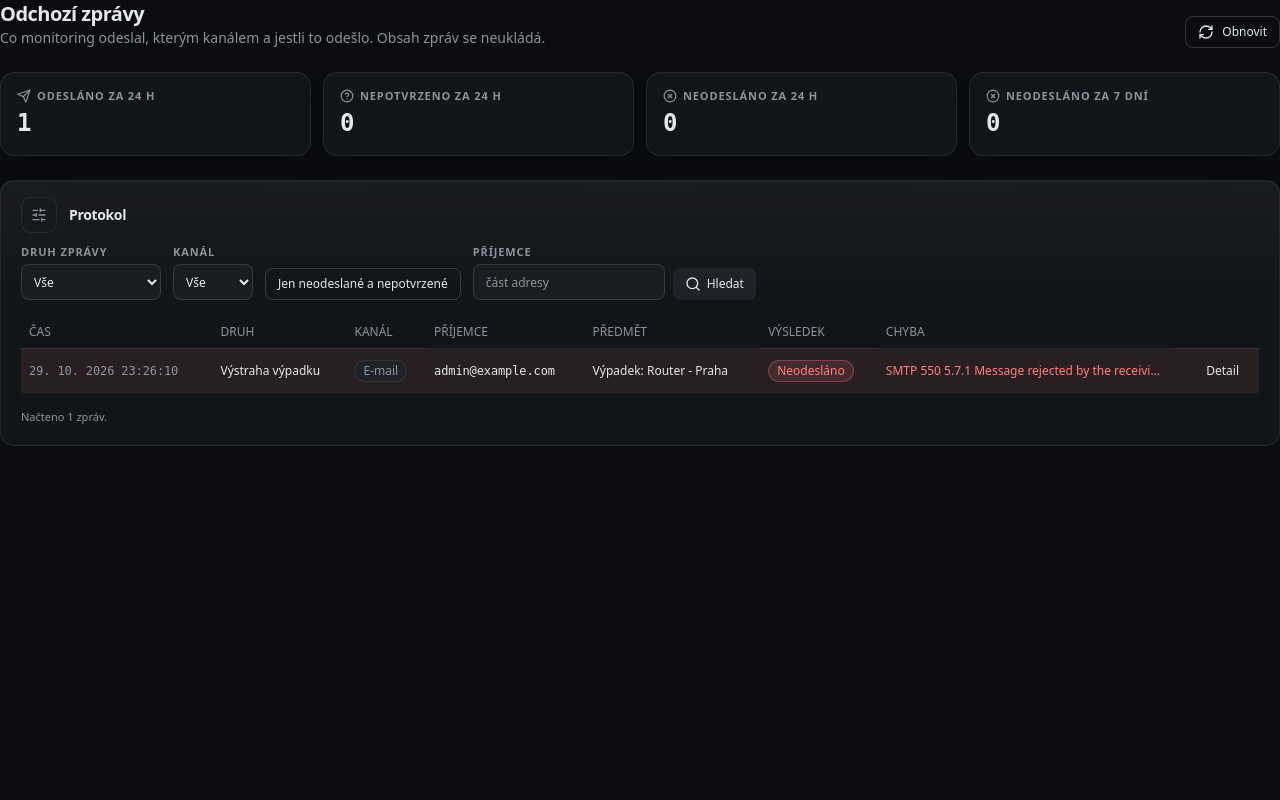
Scenario: Odchozí zprávy › detail ukáže celou chybu a připomene, že obsah zprávy se neukládá
Expected: the text "Neodesláno" is shown, [768, 360, 854, 382]
Click the button "Detail". click: (1223, 371)
box: [1194, 355, 1251, 387]
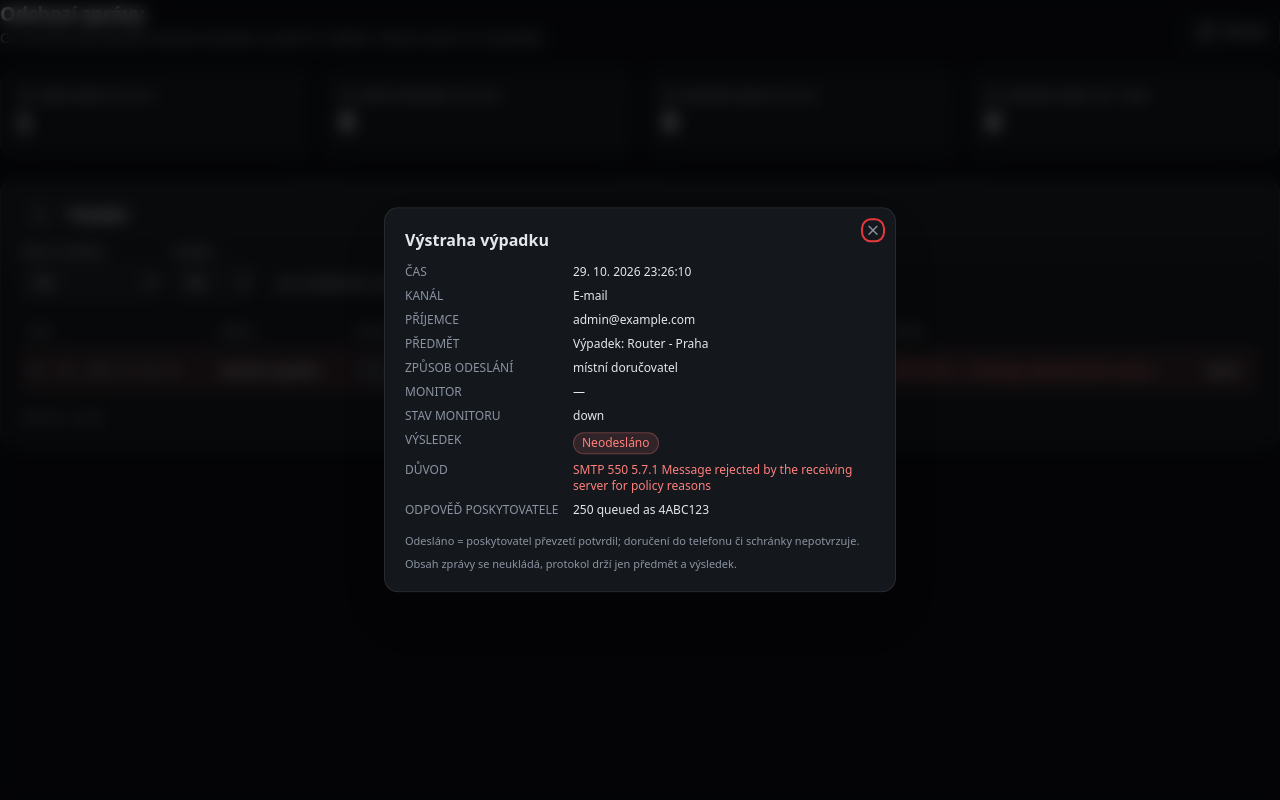
Now the dialog shows "SMTP 550 5.7.1 Message rejected by the receiving server for policy reasons", box [573, 461, 852, 494]
Now the dialog shows "místní doručovatel", box [573, 359, 678, 376]
Now the dialog shows "Obsah zprávy se neukládá", box [405, 556, 737, 571]
